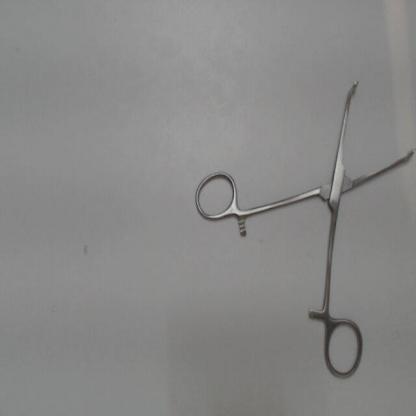Allis Tissue Forceps: (189, 69, 415, 388)
